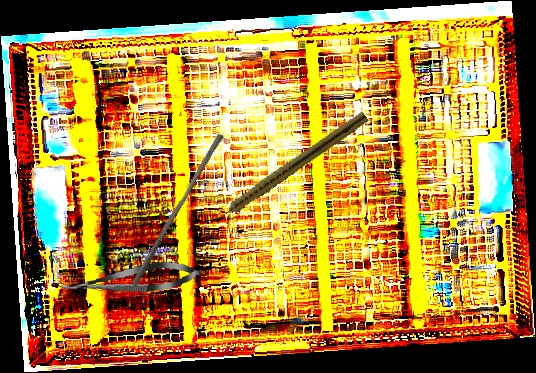Handpiece: (209, 107, 370, 227)
Micro Scissor: (55, 257, 204, 302)
Pusher: (130, 130, 225, 291)
